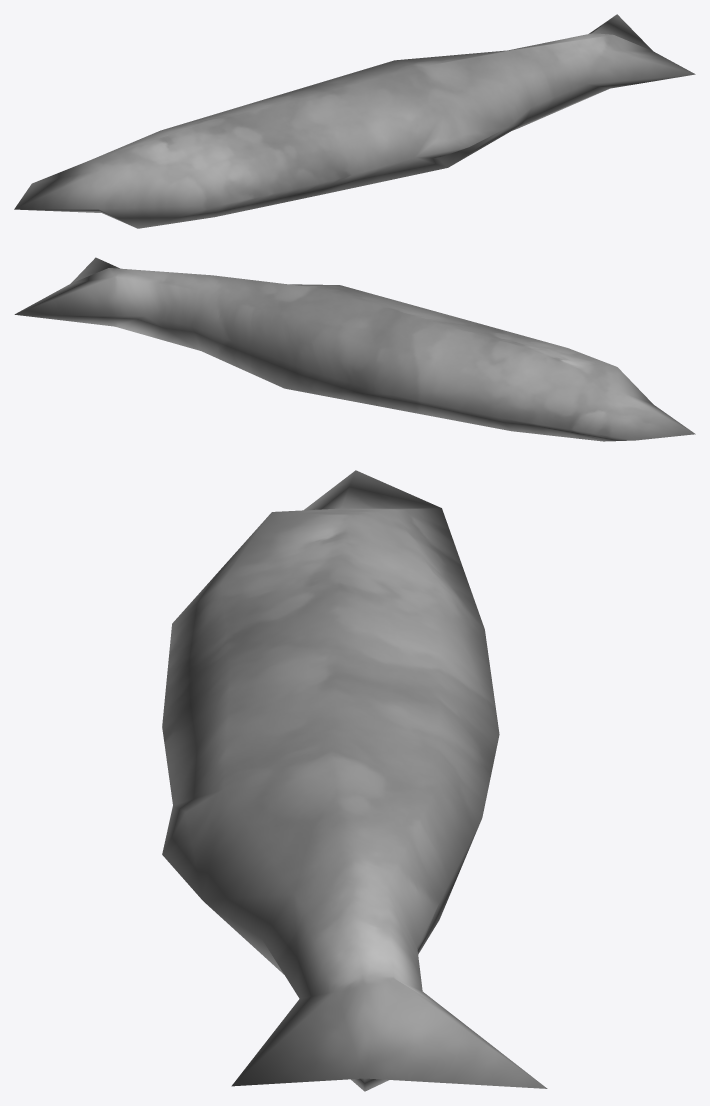
Rendered from SM_Fish_01a.fbx.
3 renders of one model, top to bottom at view 1: azimuth 30°, elevation 25°; view 2: azimuth 150°, elevation 25°; view 3: azimuth 270°, elevation 25°, orthographic. The views are drawn at different scales.
Visible parts, largest first — view 1: SM_Fish_01a_LOD0; view 2: SM_Fish_01a_LOD0; view 3: SM_Fish_01a_LOD0.
Boxes of the visible parts, x1=… form: SM_Fish_01a_LOD0: x1=14, y1=14, x2=695, y2=228; SM_Fish_01a_LOD0: x1=14, y1=257, x2=695, y2=441; SM_Fish_01a_LOD0: x1=162, y1=470, x2=547, y2=1091.
Size of the model in its own units: 82.16 by 21.65 by 11.83.
